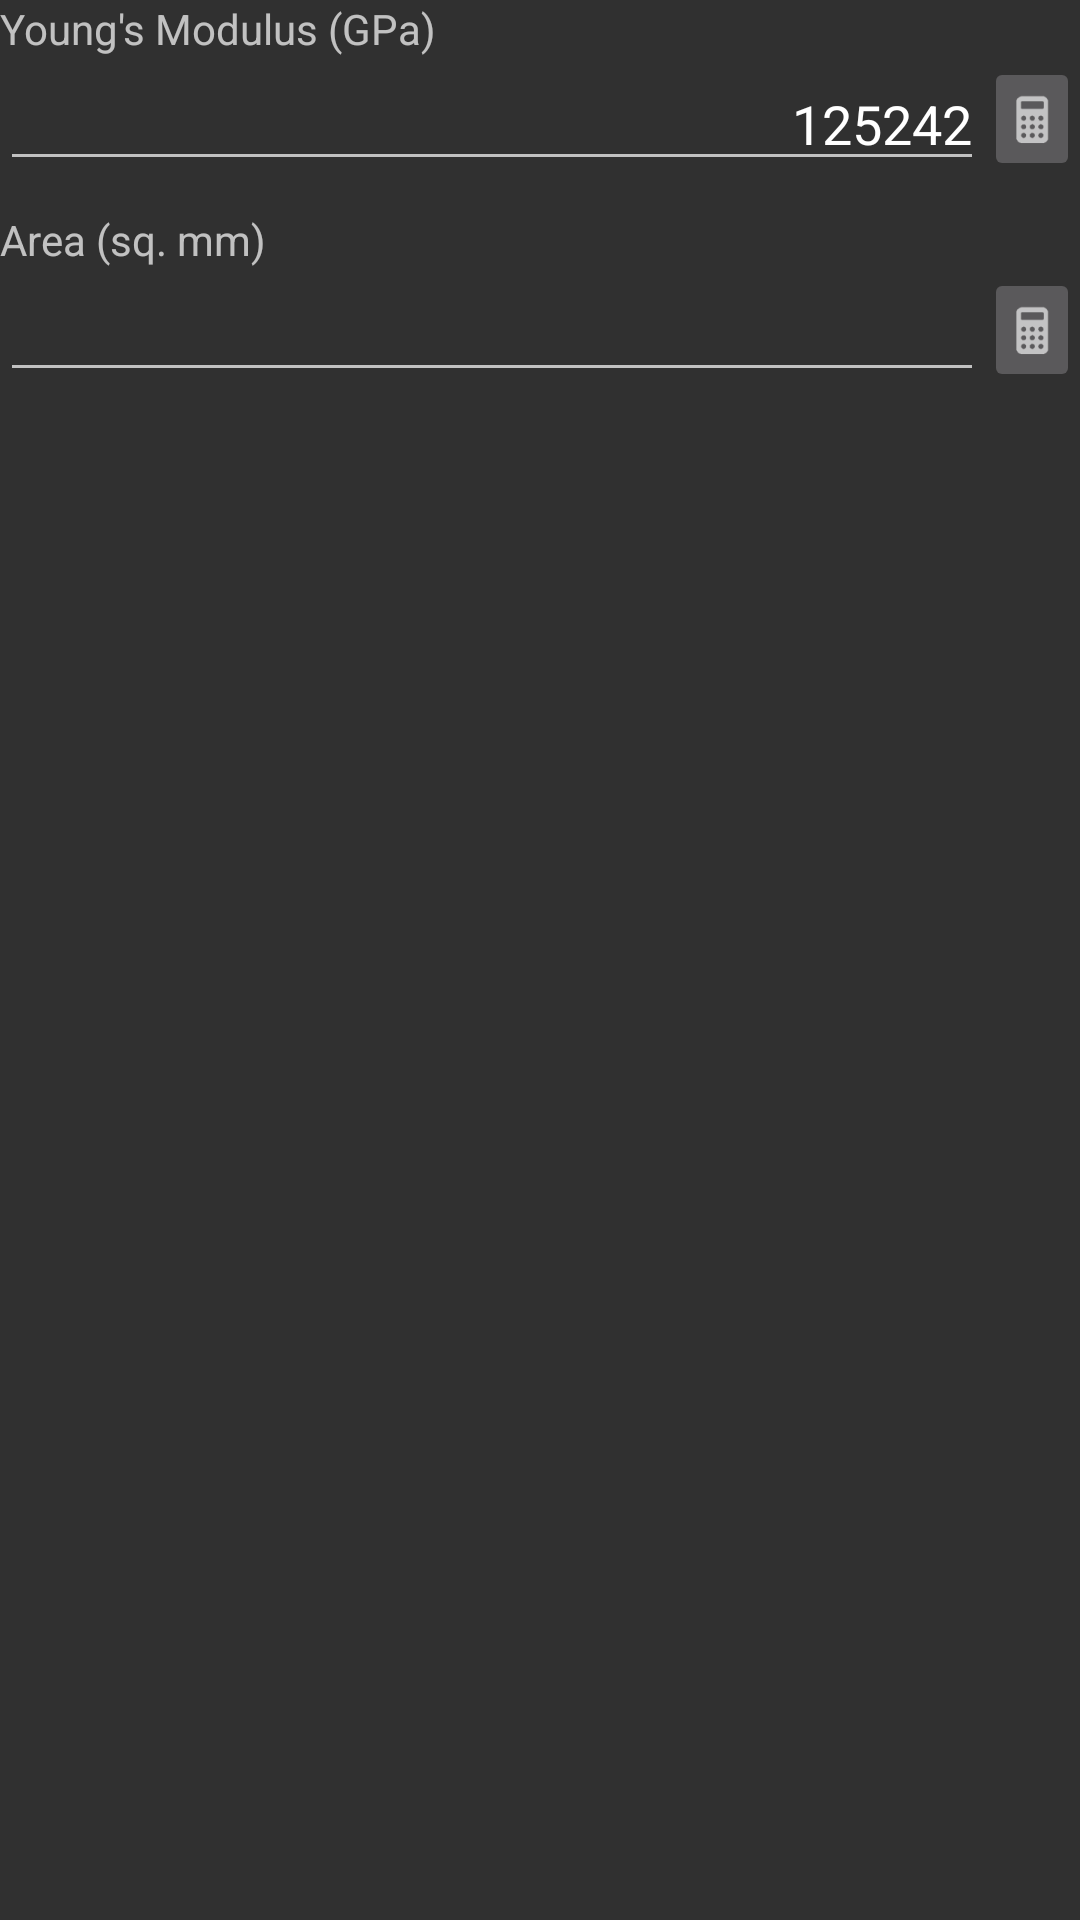

Where to tap for icons on this 1080w x 1920h app screen, as (x=x, y=y):
calculator: (x=1032, y=119), (x=1032, y=330)
